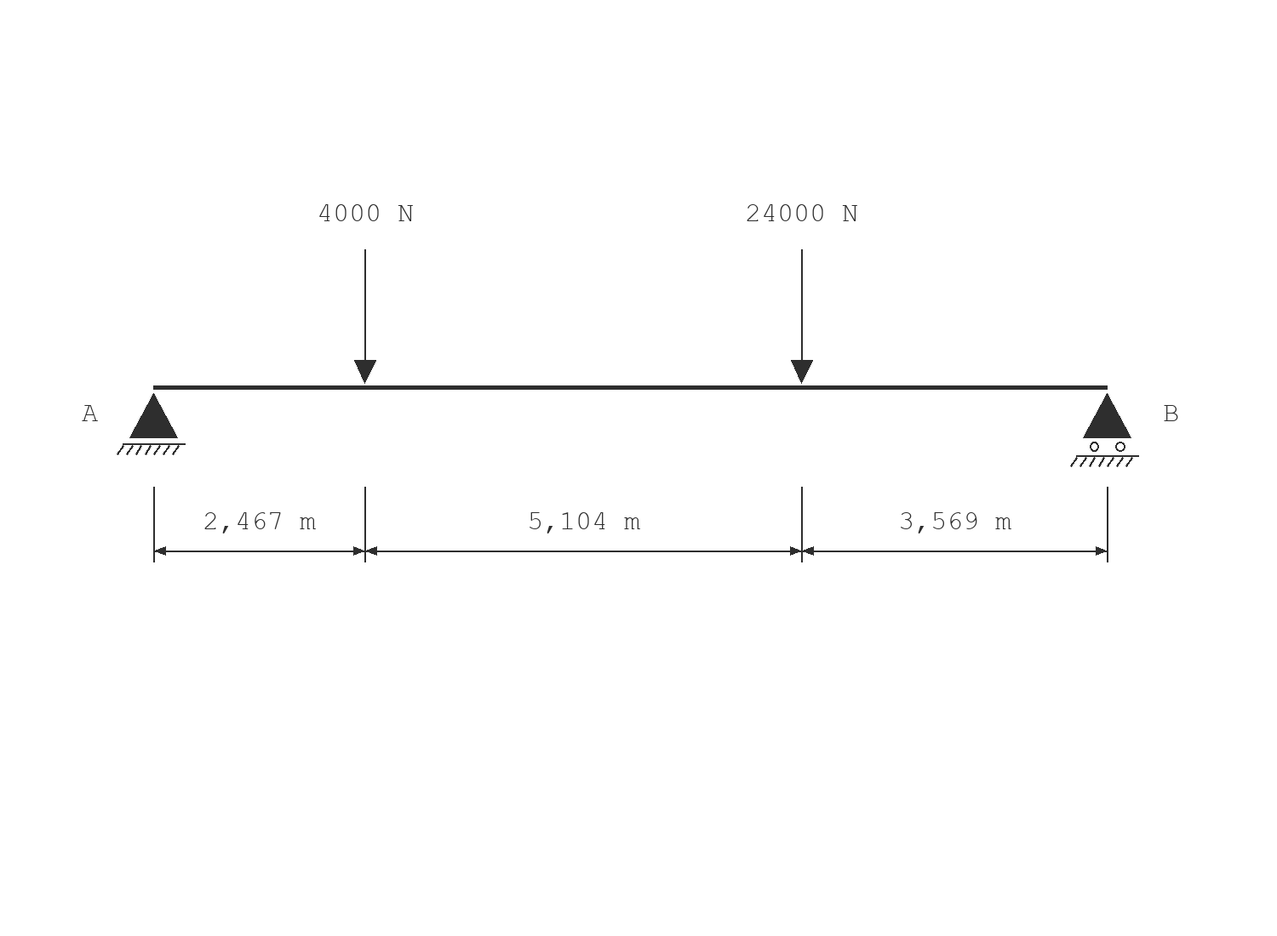pin_support: (117, 393, 186, 455)
point_load: (354, 249, 376, 384), (791, 249, 813, 384)
roller_support: (1070, 393, 1139, 467)
